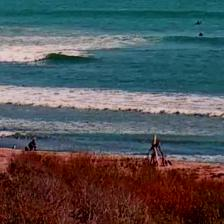surfer: (194, 20, 202, 26), (198, 32, 204, 37)
